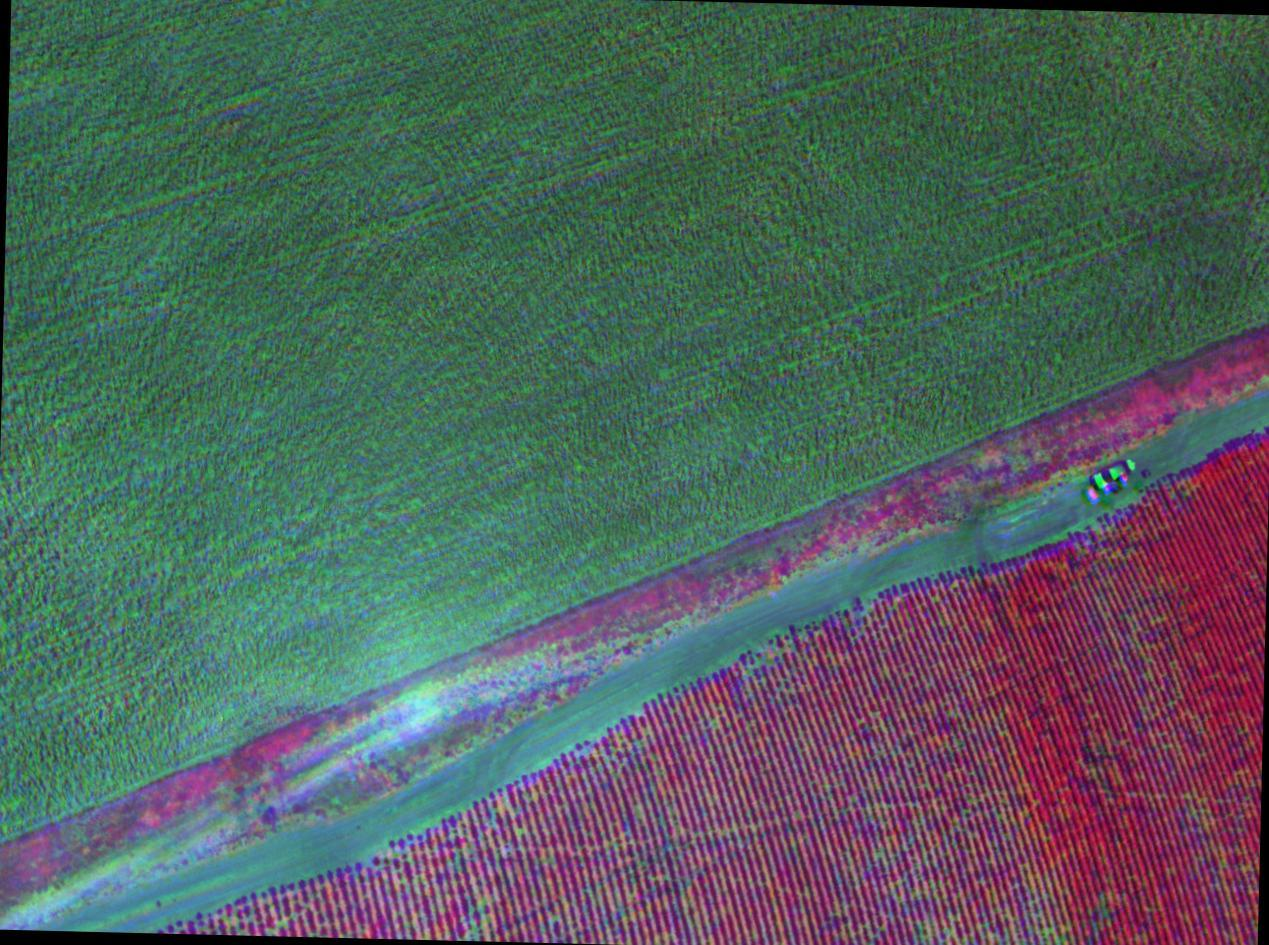dc: (440, 892, 497, 945), (1020, 889, 1062, 945), (214, 906, 291, 936), (912, 911, 973, 945), (369, 846, 407, 878), (745, 639, 787, 667)
